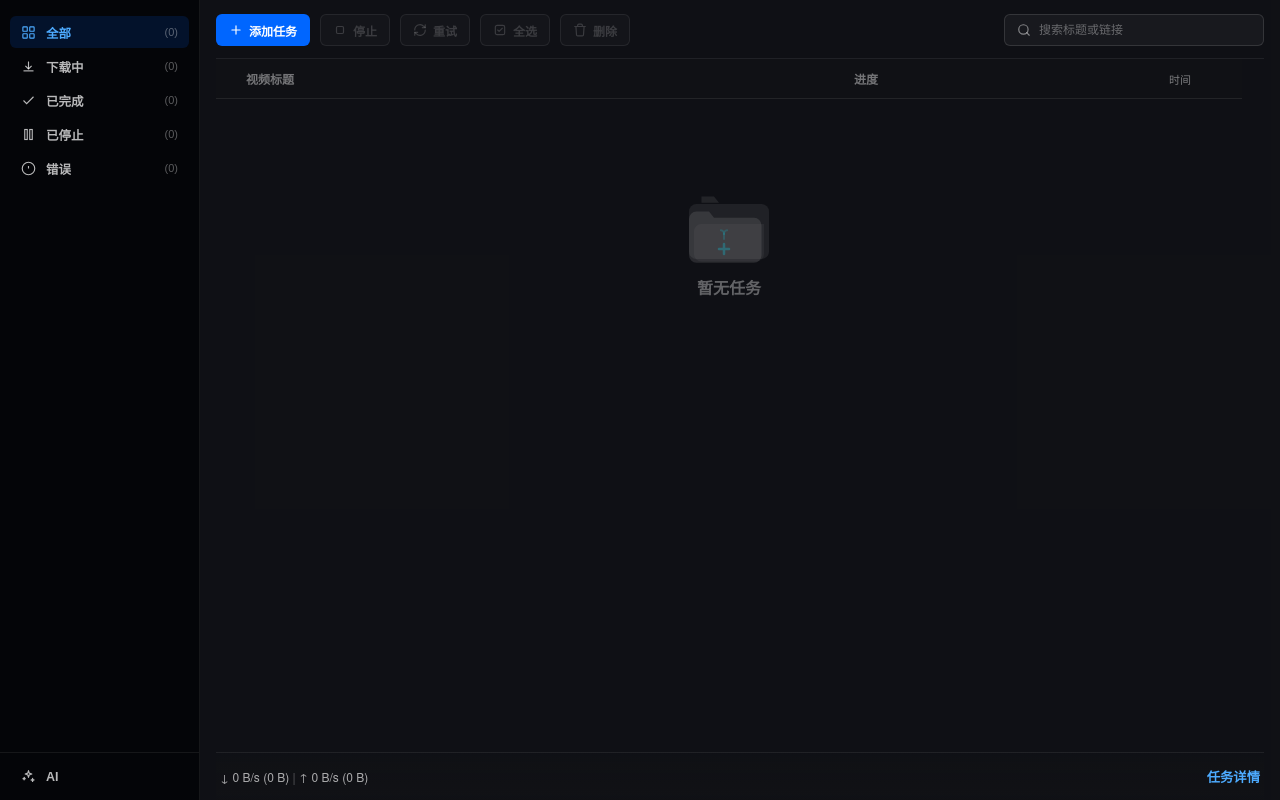
DownloaderApp interactions › shows a newly submitted task immediately in the queue
Click the button "添加任务": (263, 30) [216,14,310,46]
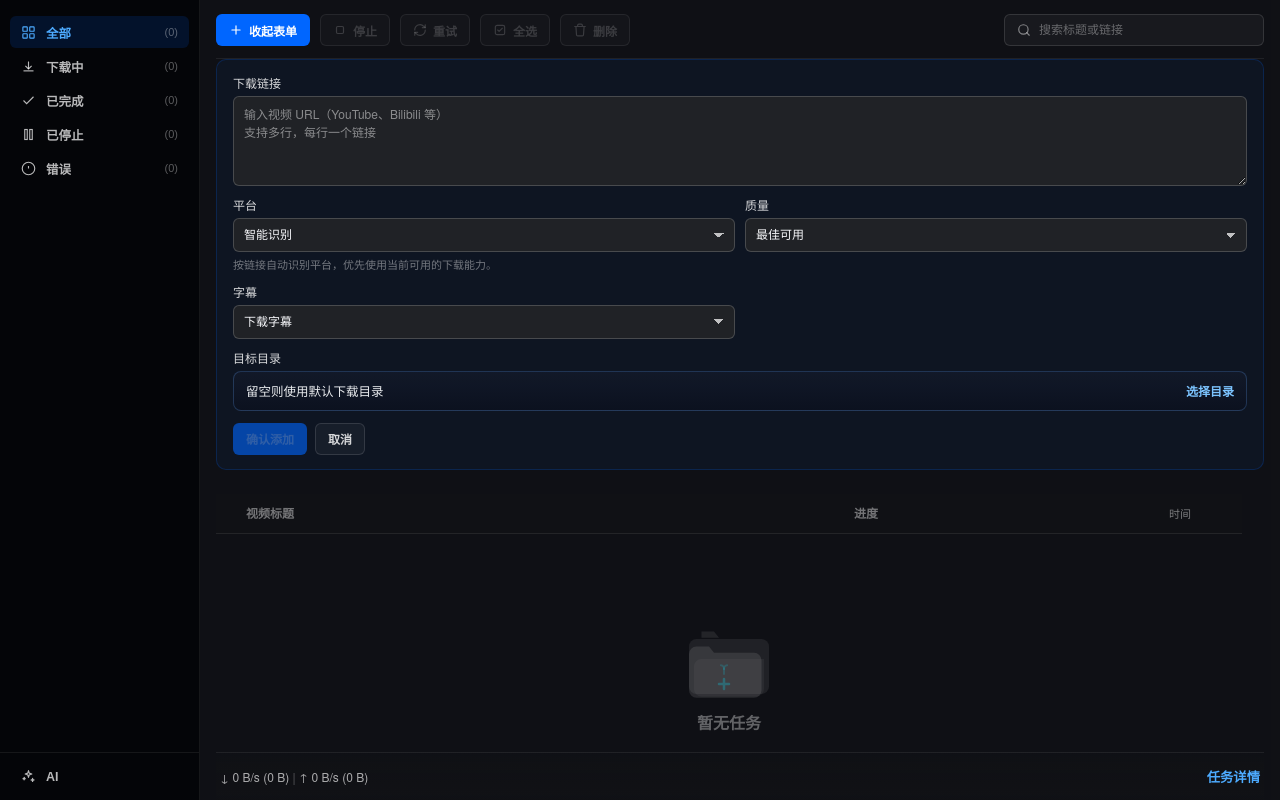
In the text box with placeholder "输入视频 URL（YouTube、Bilibili 等） 支持多行，每行一个链接": (740, 141) [233,96,1247,186], type "https://example.com/video"
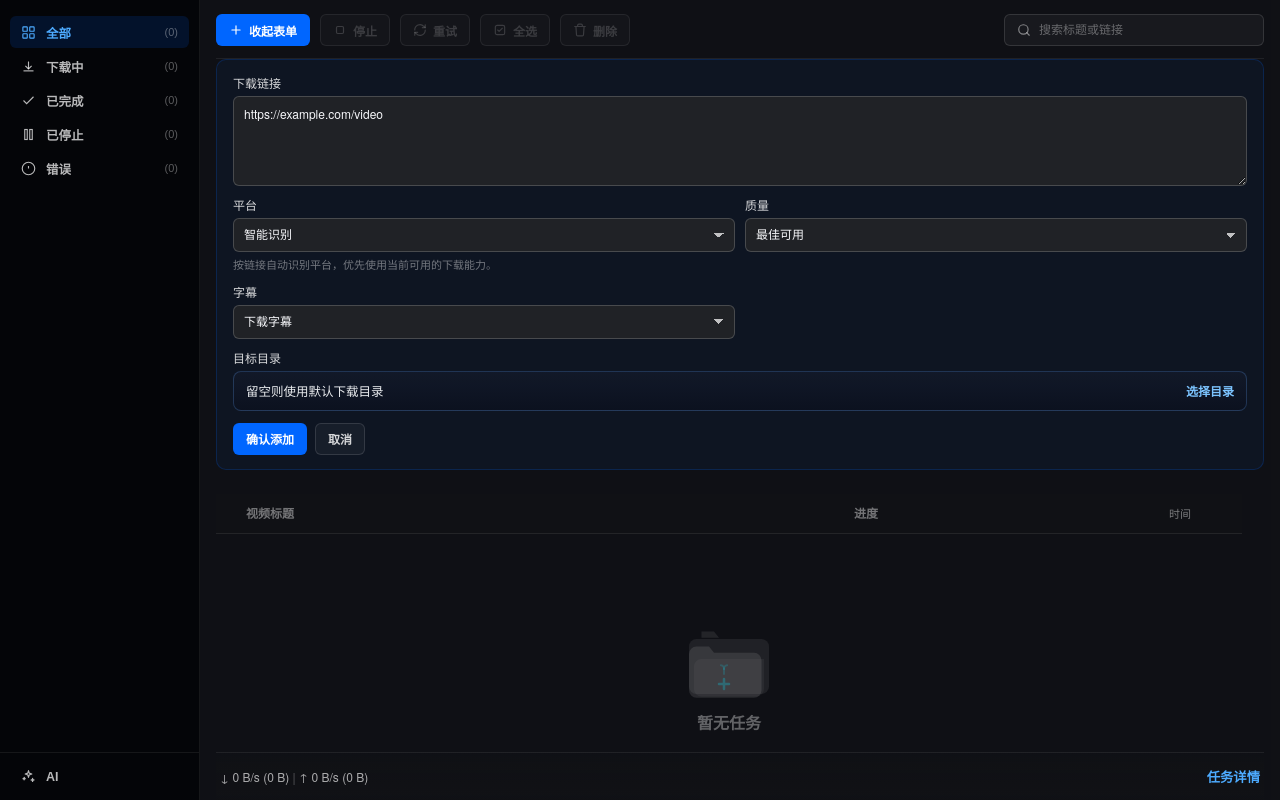
Click the button "确认添加": (270, 439) [233,423,307,455]
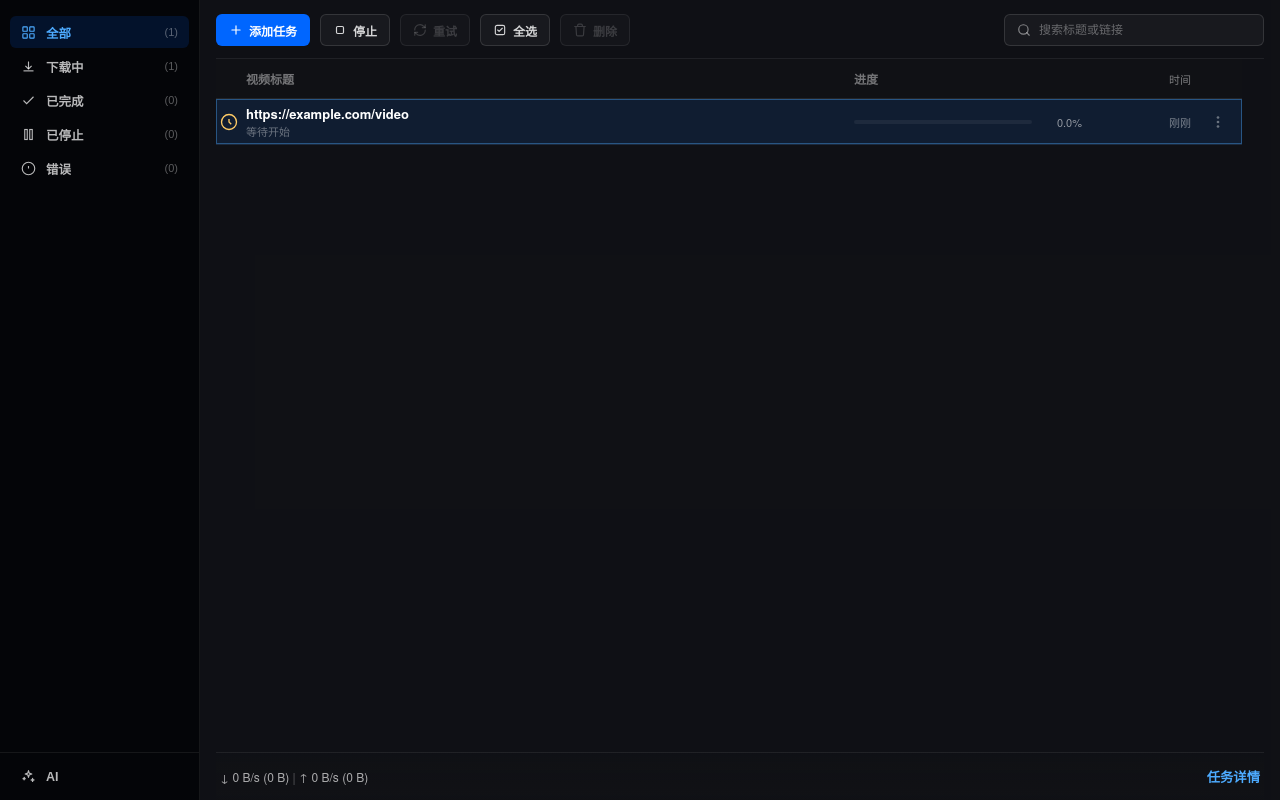
Expected: the text "https://example.com/video" is shown, [246,104,409,123]
